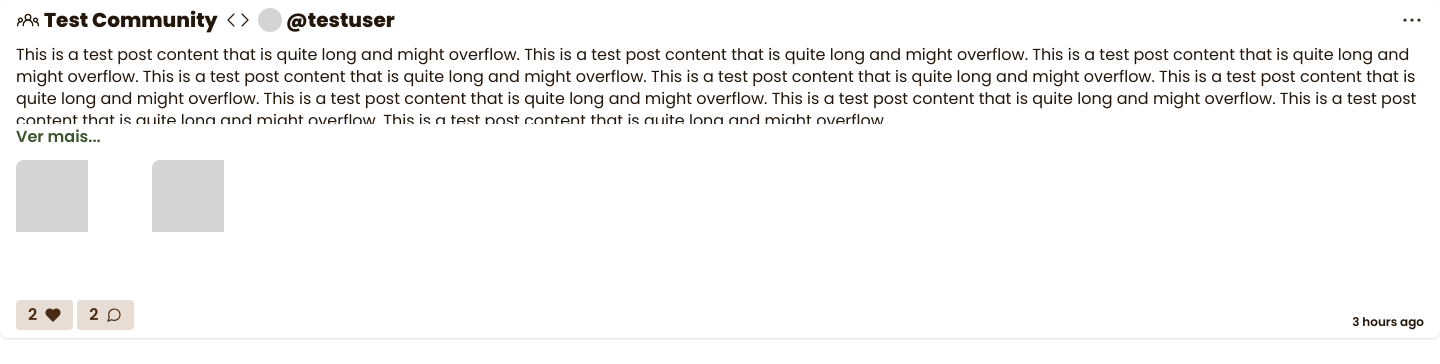
PostComponent › Text Overflow Management › toggles expanded state when clicking "Ver mais/Ver menos"
The image size is (1440, 364).
Click the text "Ver mais..." at (58, 136), box [16,125,101,148]
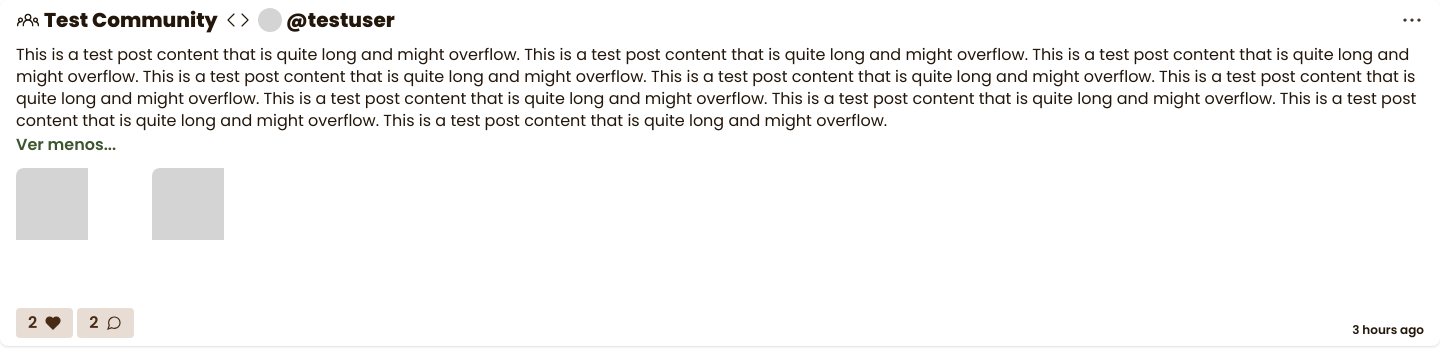
Result: the text "Ver menos..." is shown
Click the text "Ver menos..." at (66, 144), box [16,133,116,156]
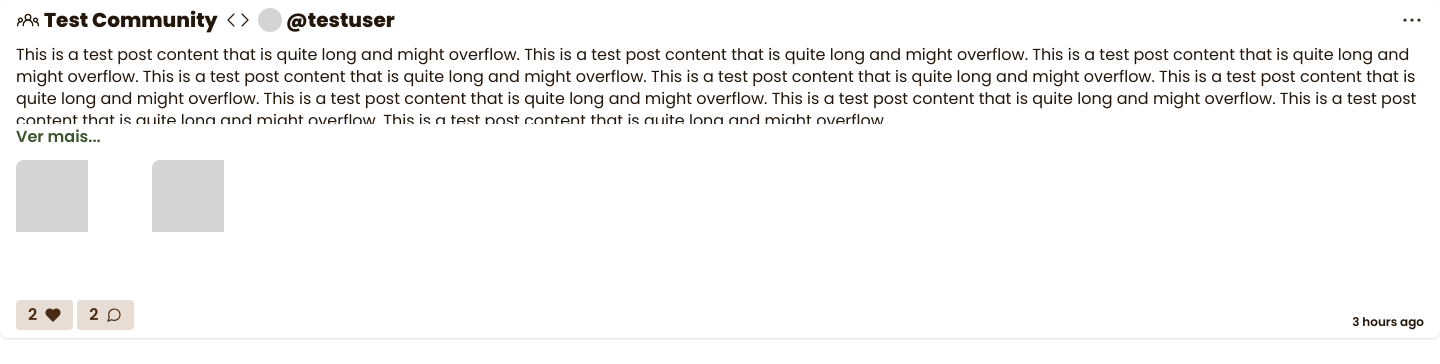
Result: the text "Ver mais..." is shown at [16,125,101,148]
